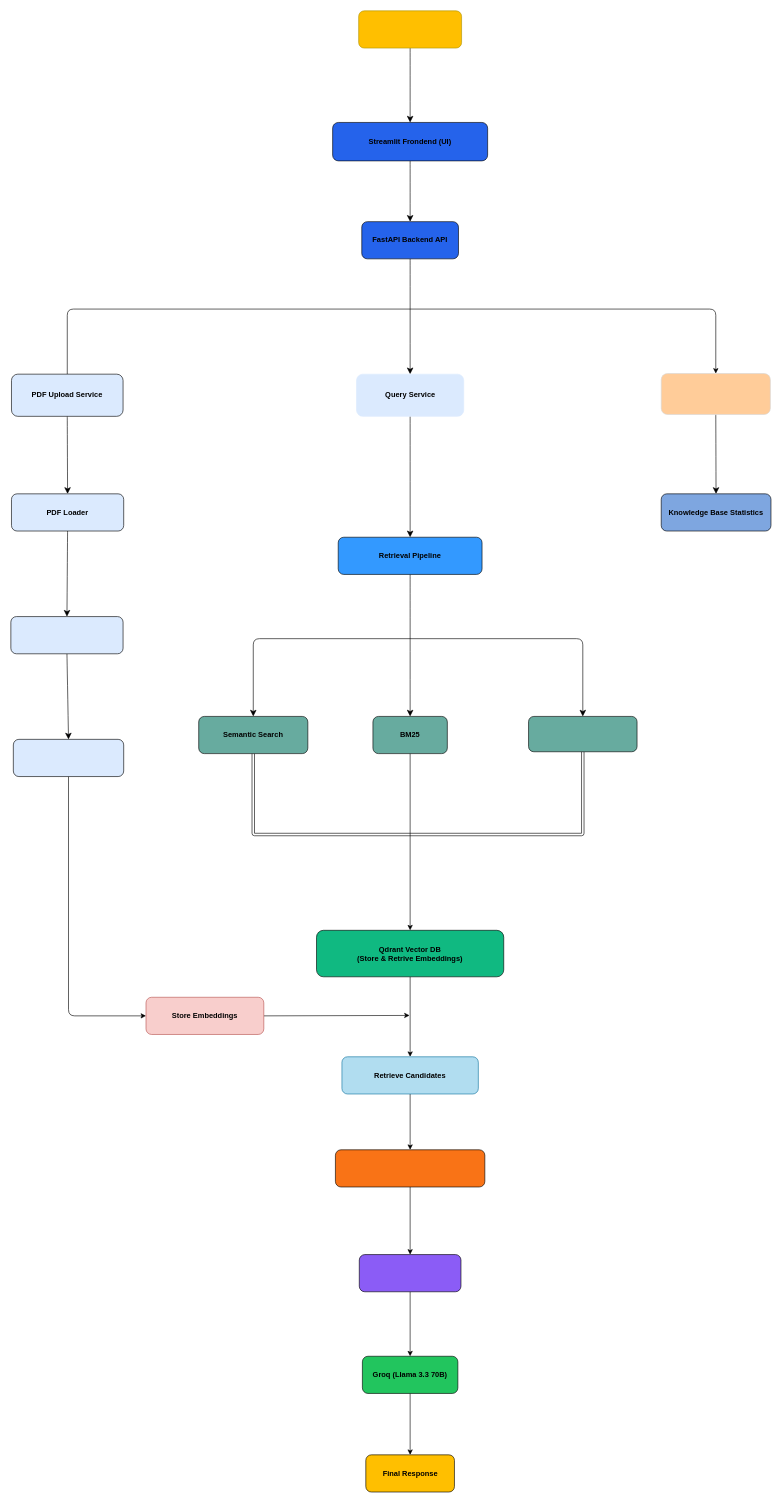
Image size: 782x1503. Some labels were removed from this diagram. The shapes that lost their labels are listed below. From the top down, each one's box as (x1, y1, x2, y2) in pixels, then its label:
(358, 10, 462, 48): User
(661, 373, 770, 414): Dashboard Service
(10, 616, 123, 654): Chunking
(528, 716, 637, 752): Hybrid Search (RRF)
(13, 739, 124, 777): Embeddings Generation
(335, 1149, 485, 1187): CrossEncoder Re-ranker
(359, 1254, 461, 1292): Retrieved Context
